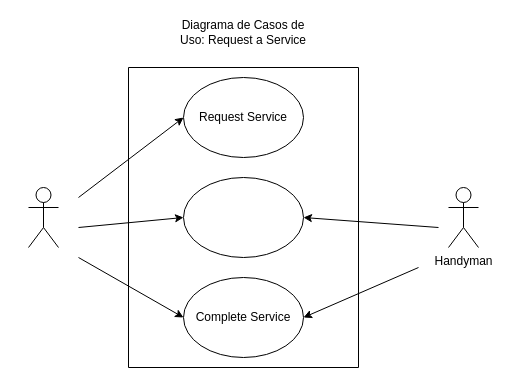
This 510x385 diagram has some shape labels left out. Here are the shapes that lost their labels. From the top down, the centre of each, then its label:
At (x=43, y=217): "Customer".
At (x=243, y=217): "Acept Request".
